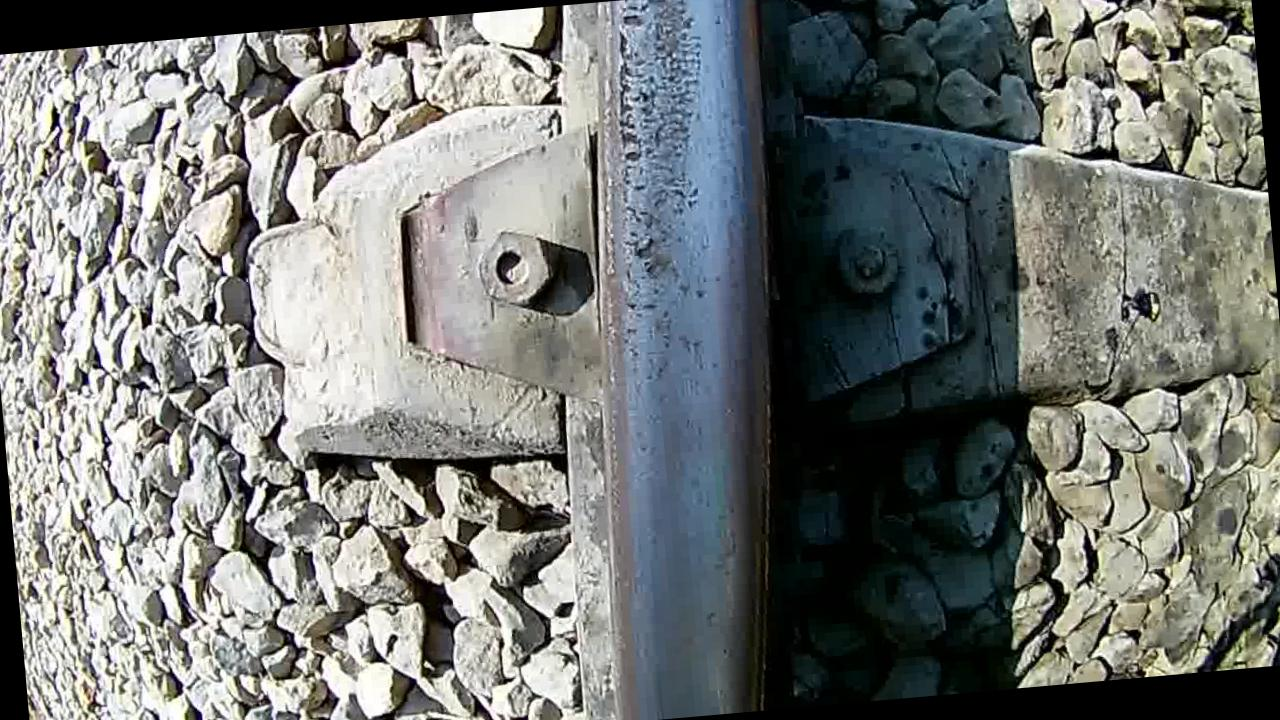crack: (555, 0, 799, 715)
